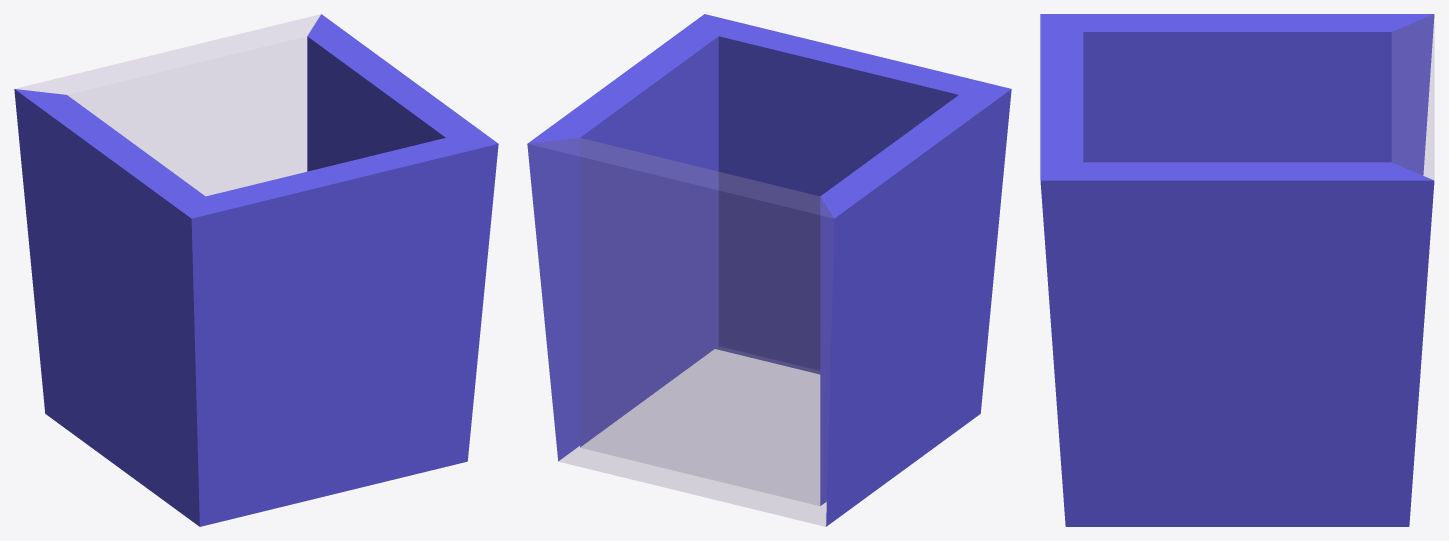
File: Blue collector.fbx
3 renders of one model, left to right at view 1: azimuth 30°, elevation 25°; view 2: azimuth 150°, elevation 25°; view 3: azimuth 270°, elevation 25°, orthographic. The views are drawn at different scales.
Visible parts, largest first — view 1: P2 Cauldron; view 2: P2 Cauldron; view 3: P2 Cauldron.
Part boxes in pixels (box(x1,y1,x2,y2)): P2 Cauldron: box(14, 14, 498, 526); P2 Cauldron: box(527, 14, 1011, 526); P2 Cauldron: box(1040, 14, 1434, 526).
Bounding box in the file's own units: 200 × 200 × 200.
